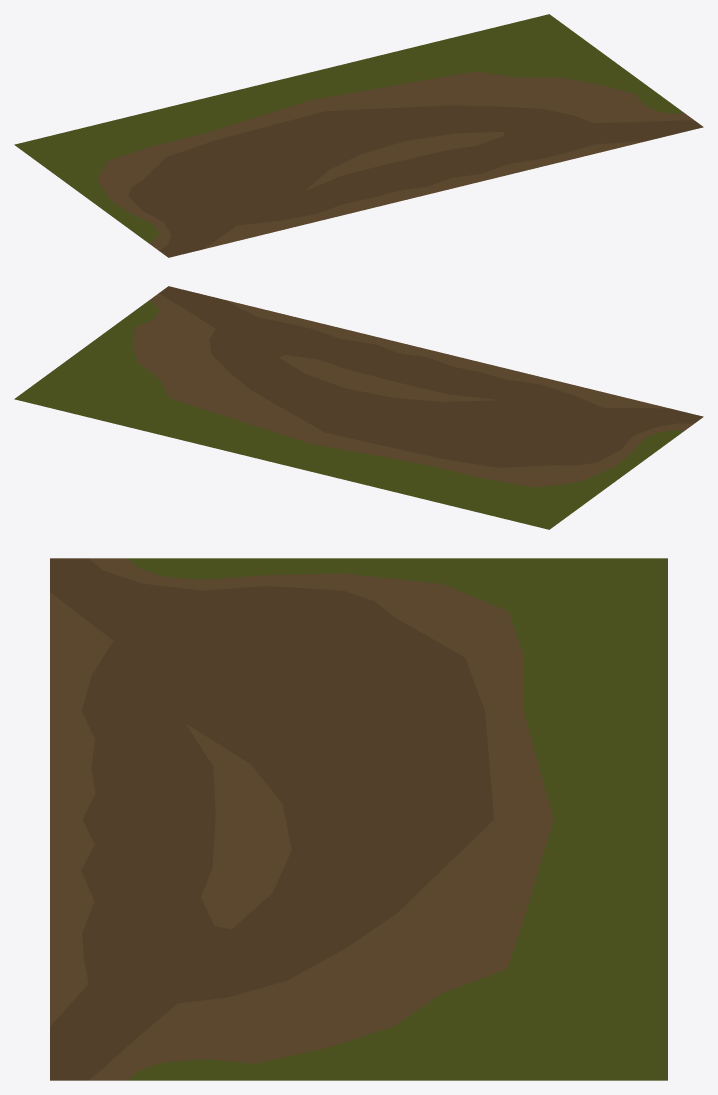
Rendered from SM_parcel_12.glb.
The picture shows the model from 3 angles, top to bottom: view 1: azimuth 30°, elevation 25°; view 2: azimuth 150°, elevation 25°; view 3: azimuth 270°, elevation 25°; orthographic projection. The views are drawn at different scales.
Visible parts, largest first — view 1: SM_parcel_12; view 2: SM_parcel_12; view 3: SM_parcel_12.
Part boxes in pixels (x1,y1,x2,y2): SM_parcel_12: [14, 14, 703, 257]; SM_parcel_12: [14, 286, 703, 529]; SM_parcel_12: [50, 558, 667, 1080].
Size of the model in its own units: 32 by 1.19e-09 by 16.
1 material, 1 textured.
